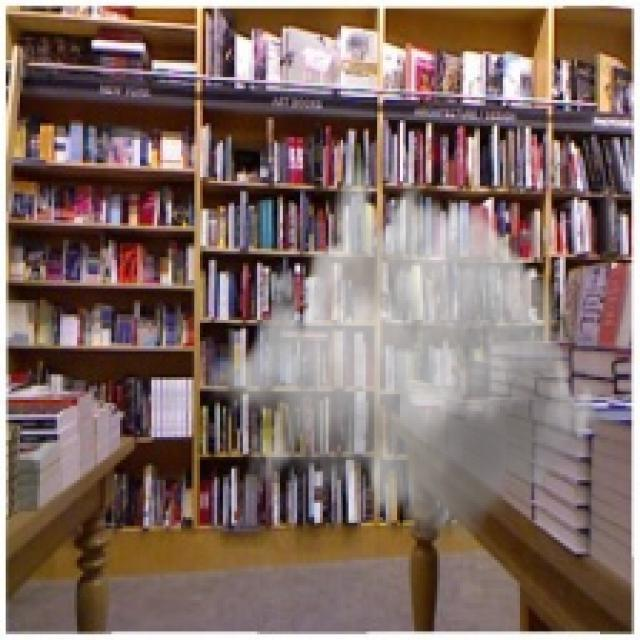Smoke: (205, 155, 600, 560)
